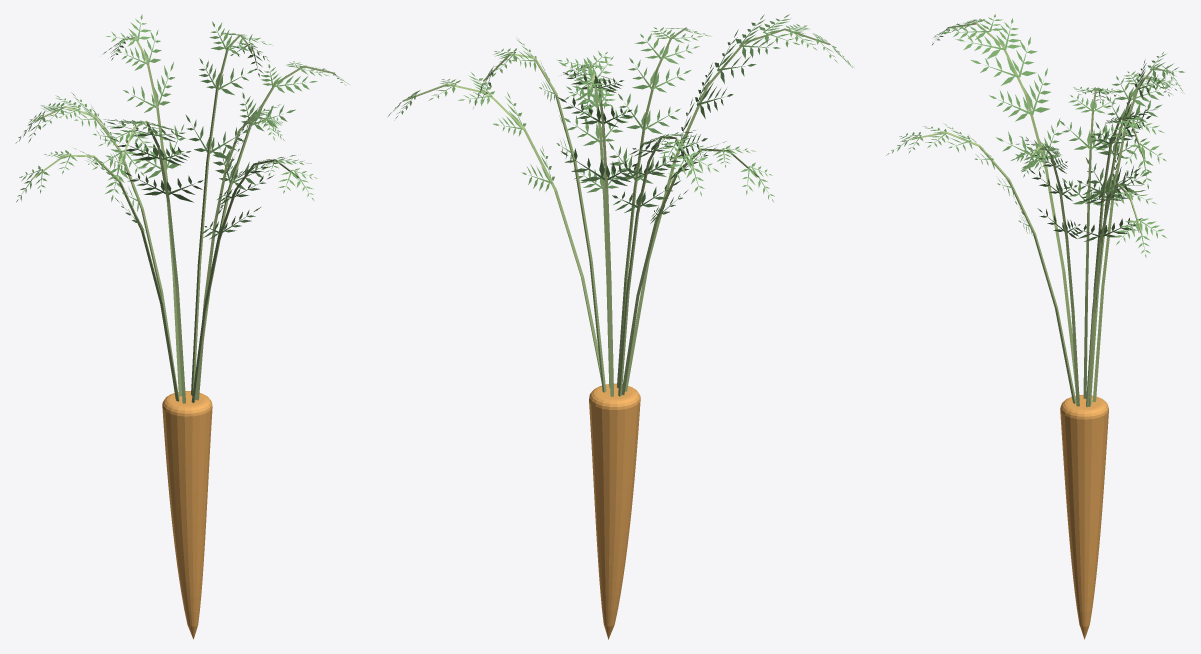
The model's file is carrot_harvest_v00.glb.
The picture shows the model from 3 angles, left to right: view 1: azimuth 30°, elevation 25°; view 2: azimuth 150°, elevation 25°; view 3: azimuth 270°, elevation 25°; orthographic projection. The views are drawn at different scales.
Visible parts, largest first — view 1: plant; view 2: plant; view 3: plant.
Boxes of the visible parts, bbox=[...] form: plant: bbox=[15, 14, 349, 639]; plant: bbox=[388, 14, 853, 639]; plant: bbox=[886, 14, 1184, 639].
Bounding box in the file's own units: 0.2942 × 0.4664 × 0.2237.
Materials: 1 (1 with a texture image).
